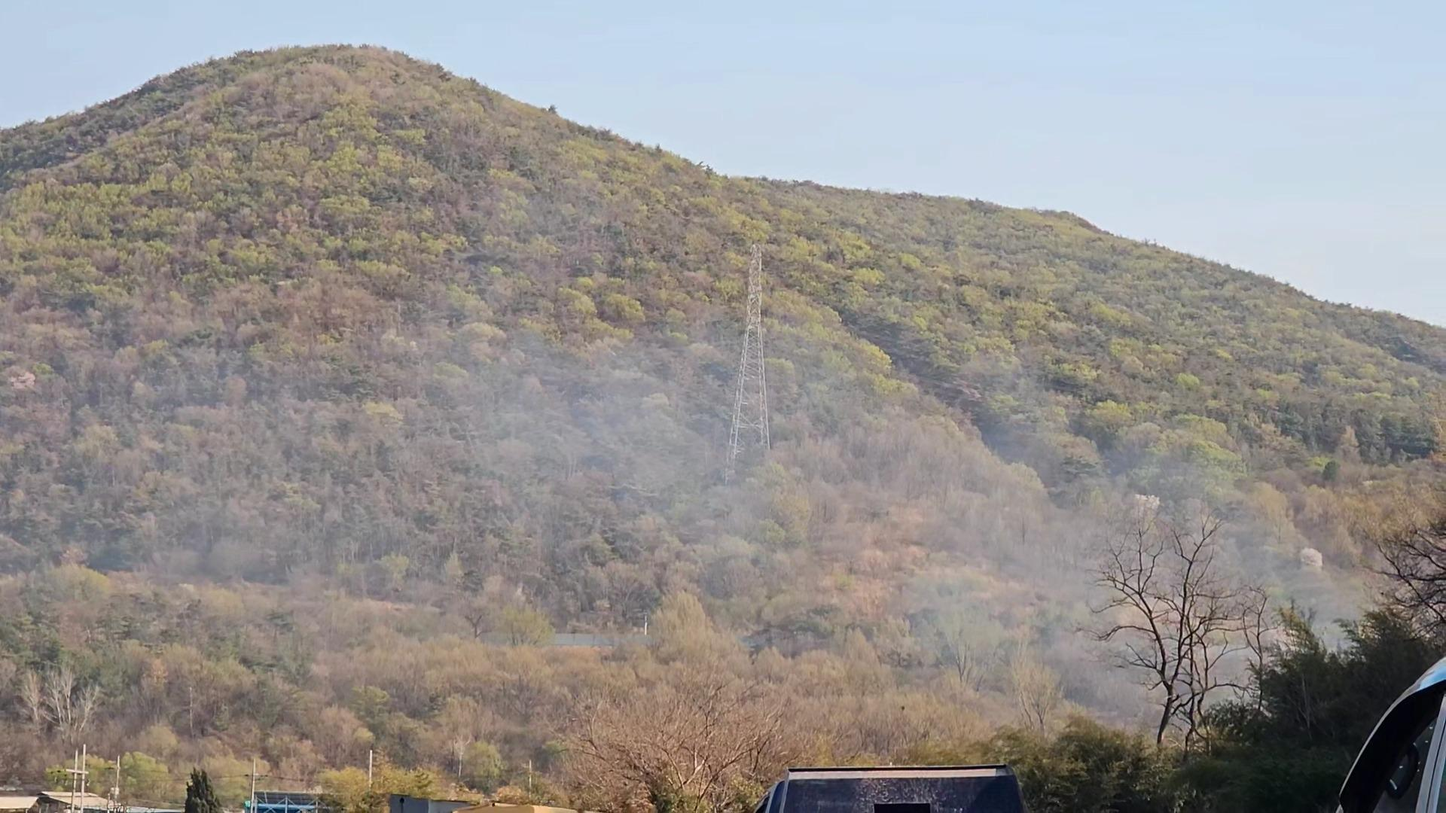smoke: (417, 318, 1360, 736)
